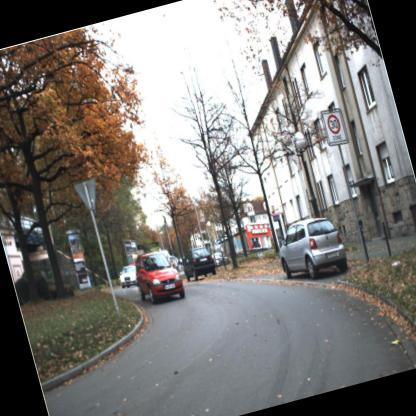prohibitory: (318, 104, 348, 142)
